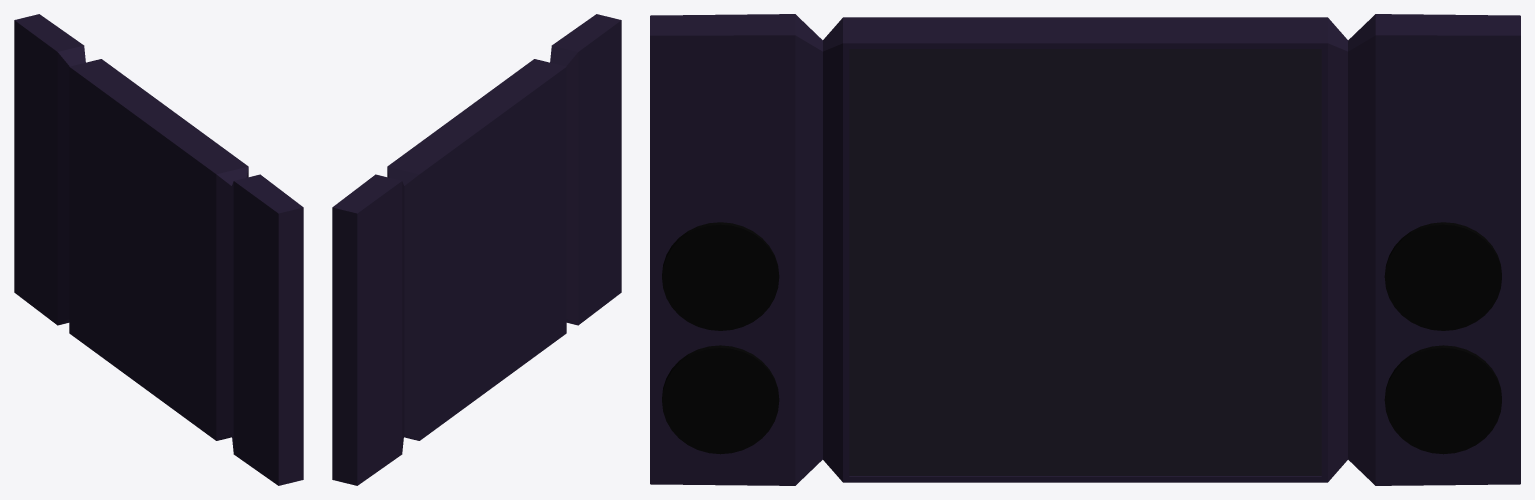
The model's file is musik afspiller.fbx.
3 views of the same model, side by side, from view 1: azimuth 30°, elevation 25°; view 2: azimuth 150°, elevation 25°; view 3: azimuth 270°, elevation 25° (orthographic). The views are drawn at different scales.
Parts seen in each view (by area): view 1: MusikAfspiller; view 2: MusikAfspiller; view 3: MusikAfspiller, Musikhøjtalere.
Boxes of the visible parts, <box> form: MusikAfspiller: <box>14,14,303,485</box>; MusikAfspiller: <box>332,14,621,485</box>; MusikAfspiller: <box>650,14,1520,485</box>; Musikhøjtalere: <box>662,222,1501,454</box>.
Size of the model in its own units: 25.29 by 205 by 359.
